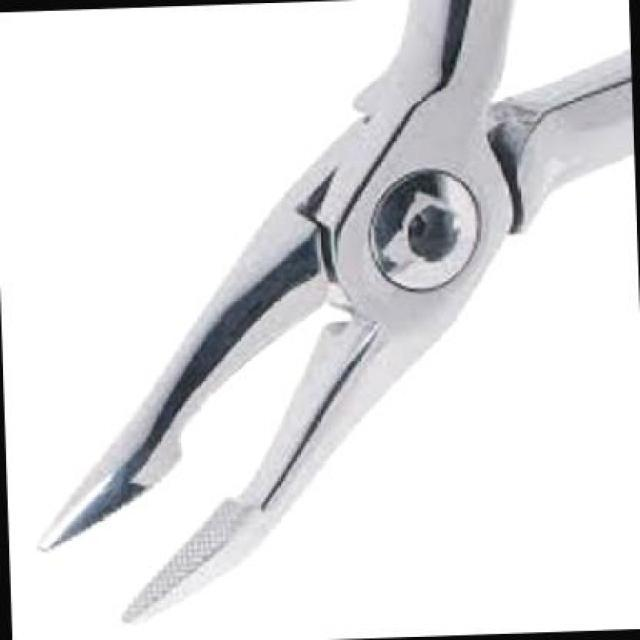pliers: (9, 0, 638, 635)
